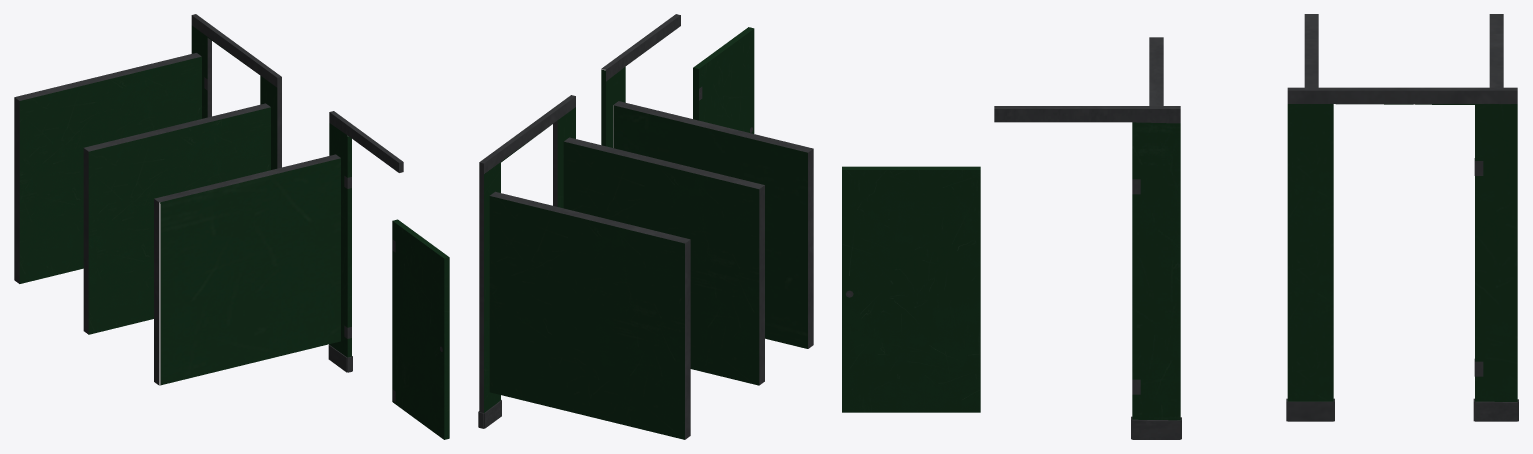
File: bathroom_stall_together.glb
3 views of the same model, side by side, from view 1: azimuth 30°, elevation 25°; view 2: azimuth 150°, elevation 25°; view 3: azimuth 270°, elevation 25° (orthographic). The views are drawn at different scales.
Visible parts, largest first — view 1: Cube, Cube.003, Bathroom_door; view 2: Cube, Cube.003, Bathroom_door; view 3: Cube, Bathroom_door, Cube.003.
Boxes of the visible parts, x1,y1,x2,y2 form: Cube: (14,14,281,334); Cube.003: (154,111,403,385); Bathroom_door: (392,219,449,439); Cube: (478,95,764,439); Cube.003: (601,14,813,348); Bathroom_door: (693,27,754,133); Cube: (1286,14,1518,421); Bathroom_door: (842,166,980,412); Cube.003: (994,37,1181,439).
Bounding box in the file's own units: 2.3 × 2.81 × 5.06.
Materials: 3 (3 with a texture image).
